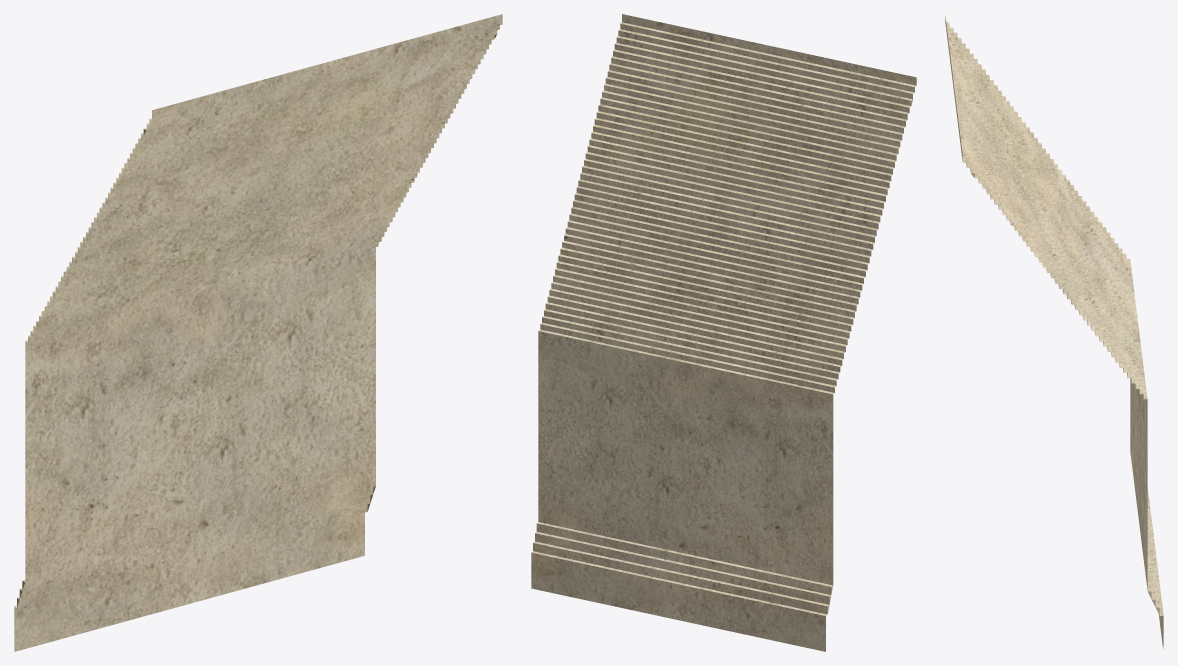
Rendered from concrete_43.fbx.
3 renders of one model, left to right at view 1: azimuth 30°, elevation 25°; view 2: azimuth 150°, elevation 25°; view 3: azimuth 270°, elevation 25°, orthographic. The views are drawn at different scales.
Visible parts, largest first — view 1: concrete_43; view 2: concrete_43; view 3: concrete_43.
Part boxes in pixels (<box>): concrete_43: <box>14,14,502,651</box>; concrete_43: <box>531,14,916,651</box>; concrete_43: <box>945,16,1163,649</box>.
Size of the model in its own units: 298 by 482 by 190.
